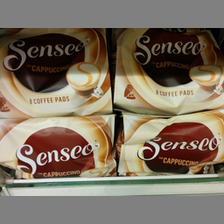coffee: (1, 28, 116, 115), (113, 27, 224, 114), (2, 114, 116, 180), (115, 111, 224, 177)
